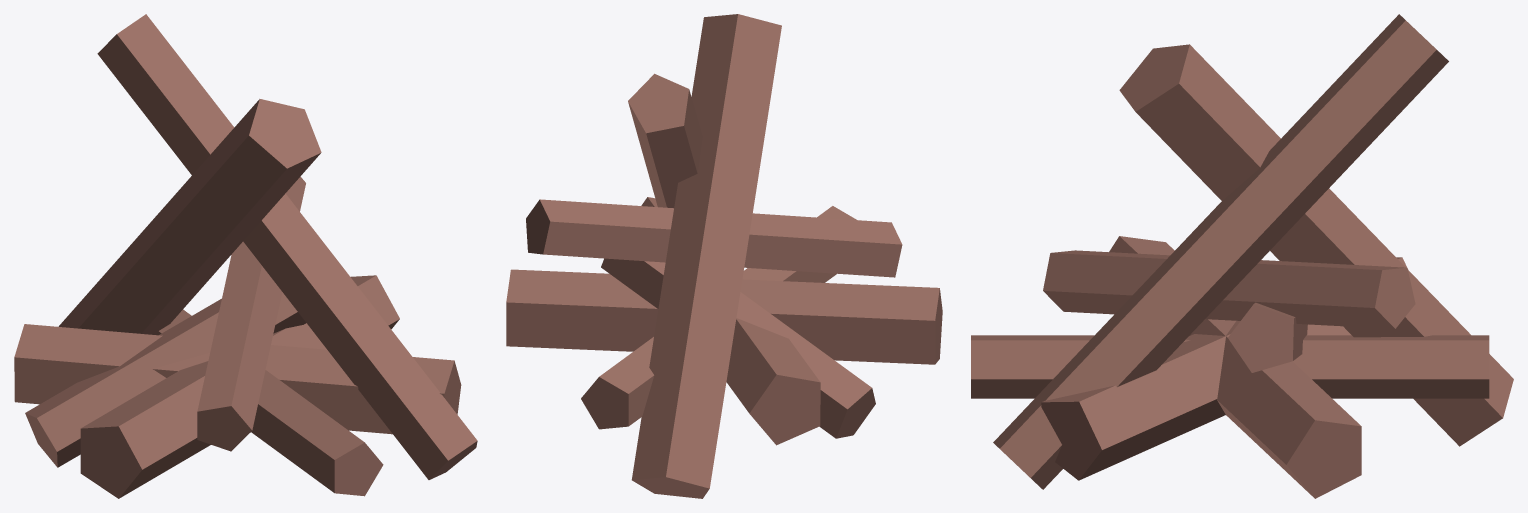
File: bonfire.fbx
3 views of the same model, side by side, from view 1: azimuth 30°, elevation 25°; view 2: azimuth 150°, elevation 25°; view 3: azimuth 270°, elevation 25° (orthographic). The views are drawn at different scales.
Parts seen in each view (by area): view 1: bonfire1; view 2: bonfire1; view 3: bonfire1.
Boxes of the visible parts, left/top/right/bottom form: bonfire1: left=14, top=14, right=477, bottom=498; bonfire1: left=506, top=14, right=942, bottom=498; bonfire1: left=971, top=14, right=1513, bottom=498.
Size of the model in its own units: 3.44 by 3.56 by 3.98.
